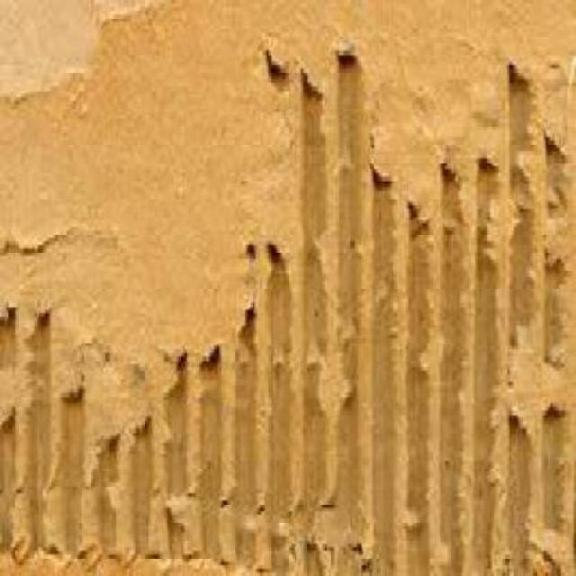Kertas: (0, 0, 574, 573)
